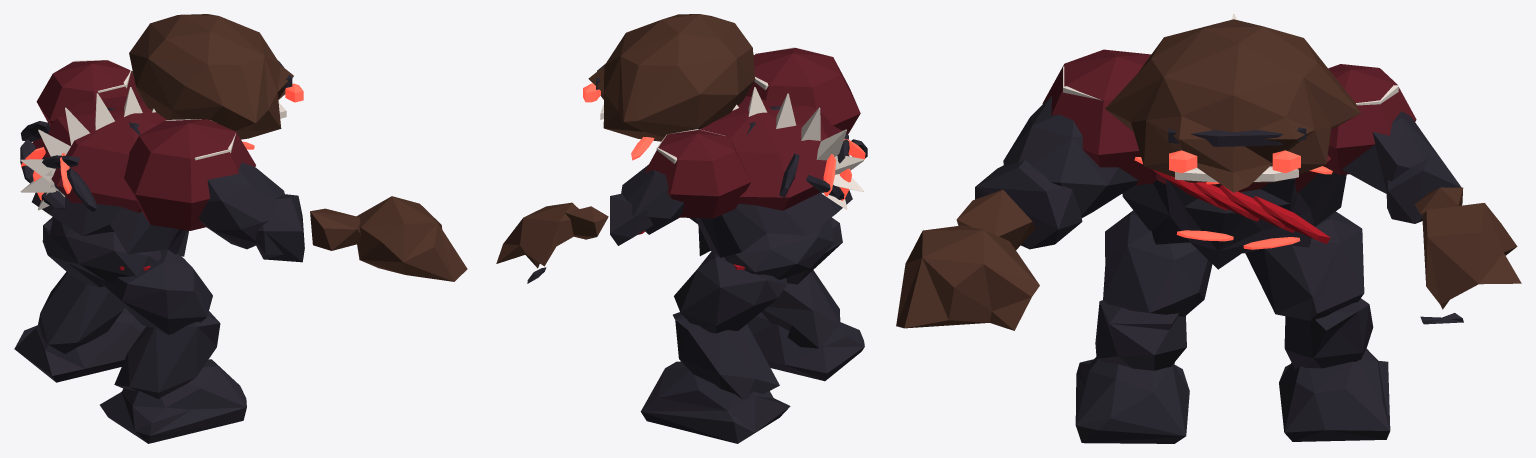
The model's file is inf.mega-alpha.lod2.glb.
The picture shows the model from 3 angles, left to right: view 1: azimuth 30°, elevation 25°; view 2: azimuth 150°, elevation 25°; view 3: azimuth 270°, elevation 25°; orthographic projection. The views are drawn at different scales.
Parts seen in each view (by area): view 1: torso, head, footR, handR, legR, shinR, armR, shinL, footL, foreArmR, hip, legL; view 2: torso, head, footL, legL, shinL, footR, shinR, hip, handL, foreArmL, armL, legR; view 3: head, torso, handR, footR, footL, legL, legR, handL, foreArmR, armR, shinR, shinL (+2 smaller).
Boxes of the visible parts, bbox=[...] form: torso: bbox=[20, 60, 255, 256]; head: bbox=[129, 14, 303, 139]; footR: bbox=[100, 359, 246, 443]; handR: bbox=[356, 196, 467, 281]; legR: bbox=[98, 249, 212, 334]; shinR: bbox=[114, 311, 220, 398]; armR: bbox=[198, 162, 284, 249]; shinL: bbox=[37, 272, 124, 353]; footL: bbox=[14, 307, 145, 382]; foreArmR: bbox=[255, 194, 360, 262]; hip: bbox=[49, 217, 162, 282]; legL: bbox=[42, 217, 103, 287]; torso: bbox=[631, 47, 867, 257]; head: bbox=[583, 14, 755, 141]; footL: bbox=[640, 361, 790, 443]; legL: bbox=[674, 251, 786, 333]; shinL: bbox=[673, 312, 779, 399]; footR: bbox=[747, 312, 864, 381]; shinR: bbox=[761, 270, 840, 348]; hip: bbox=[724, 218, 834, 279]; handL: bbox=[496, 202, 578, 283]; foreArmL: bbox=[565, 193, 652, 245]; armL: bbox=[621, 164, 683, 234]; legR: bbox=[786, 217, 842, 284]; head: bbox=[1105, 19, 1360, 192]; torso: bbox=[1042, 14, 1416, 269]; handR: bbox=[896, 225, 1039, 330]; footR: bbox=[1075, 357, 1189, 443]; footL: bbox=[1279, 348, 1390, 441]; legL: bbox=[1245, 211, 1364, 320]; legR: bbox=[1103, 210, 1212, 316]; handL: bbox=[1420, 203, 1521, 324]; foreArmR: bbox=[956, 160, 1082, 249]; armR: bbox=[1003, 96, 1138, 217]; shinR: bbox=[1095, 300, 1186, 370]; shinL: bbox=[1284, 298, 1373, 369].
Size of the model in its own units: 2.24 by 2.39 by 3.18.
